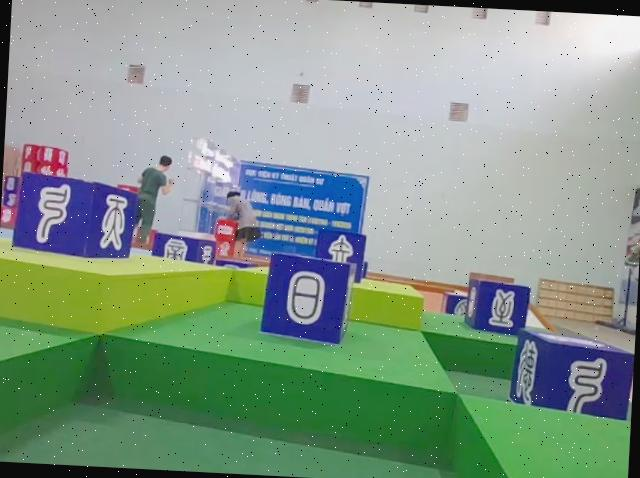R2 Fake Blue: (12, 173, 140, 263), (510, 331, 635, 423), (260, 252, 359, 348), (462, 279, 529, 337), (311, 227, 366, 282), (149, 232, 217, 266)
